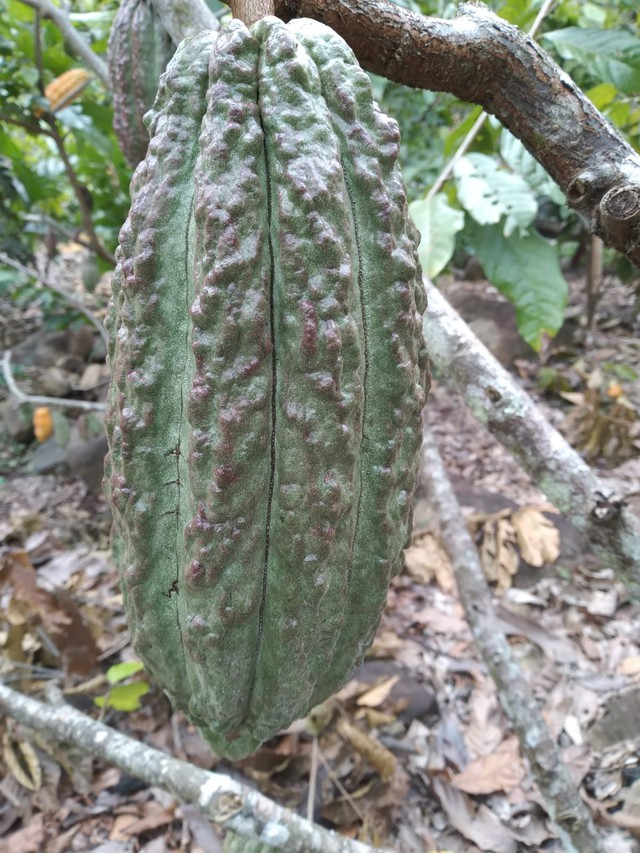Health: (92, 13, 439, 766)
